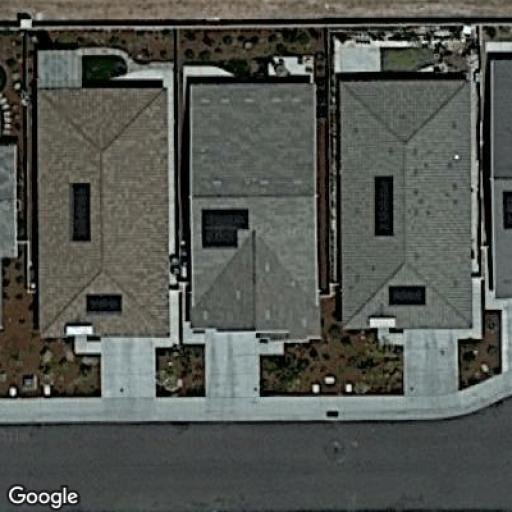solar-panel: (200, 206, 250, 250), (68, 180, 92, 244), (372, 172, 395, 238), (84, 292, 124, 316), (388, 284, 428, 307), (500, 190, 512, 230)
